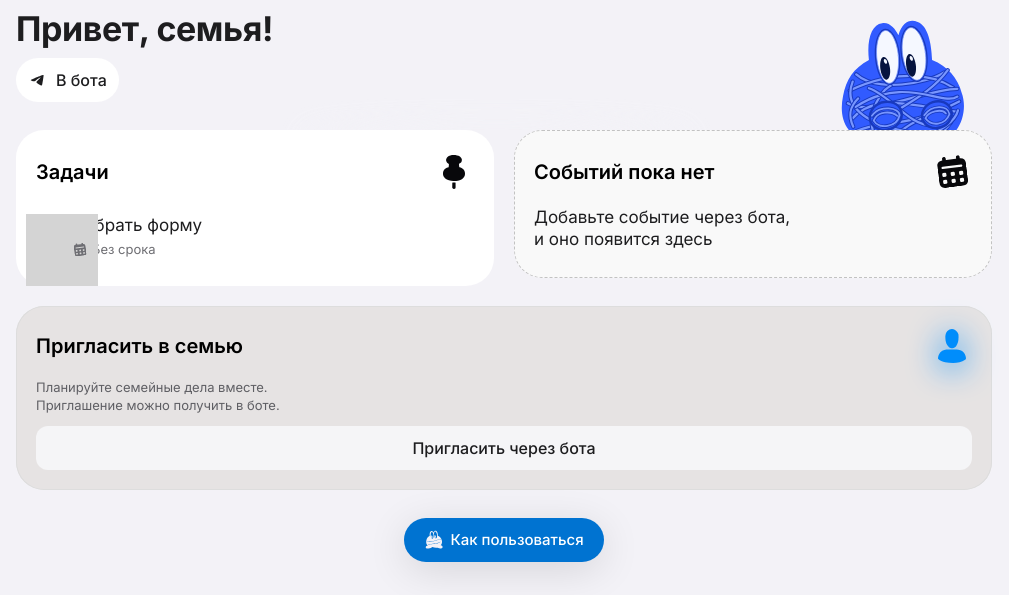
home data states › blocks duplicate bot handoffs and restores the buttons on return without a false missing-link error
Click the button "В бота": (67, 80) [16,58,119,102]
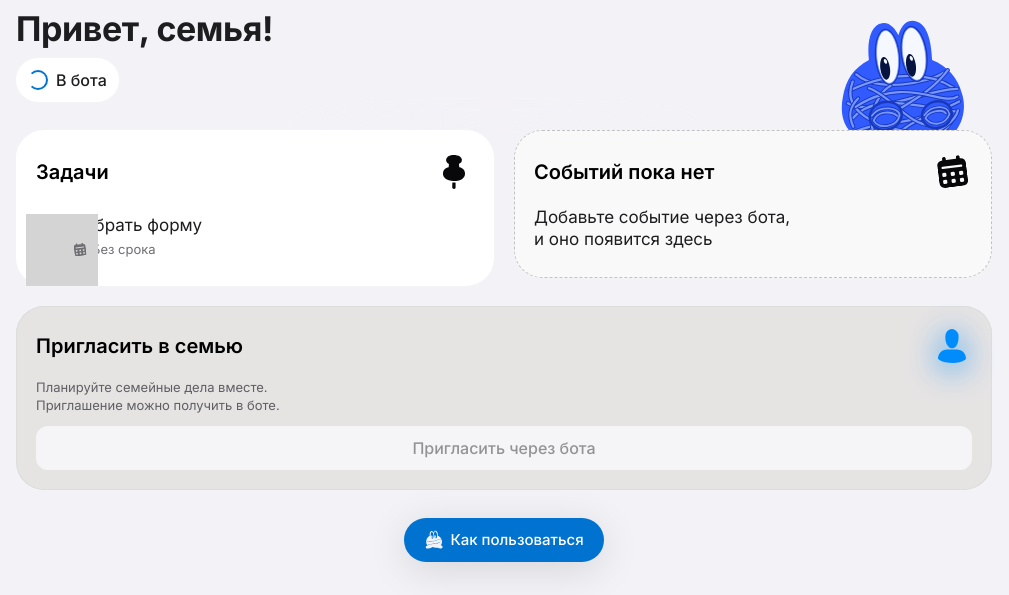
Check: the button "В бота" is disabled
Check: the button "Пригласить через бота" is disabled, box [36,426,972,470]
Click the button "В бота": (67, 80) [16,58,119,102]
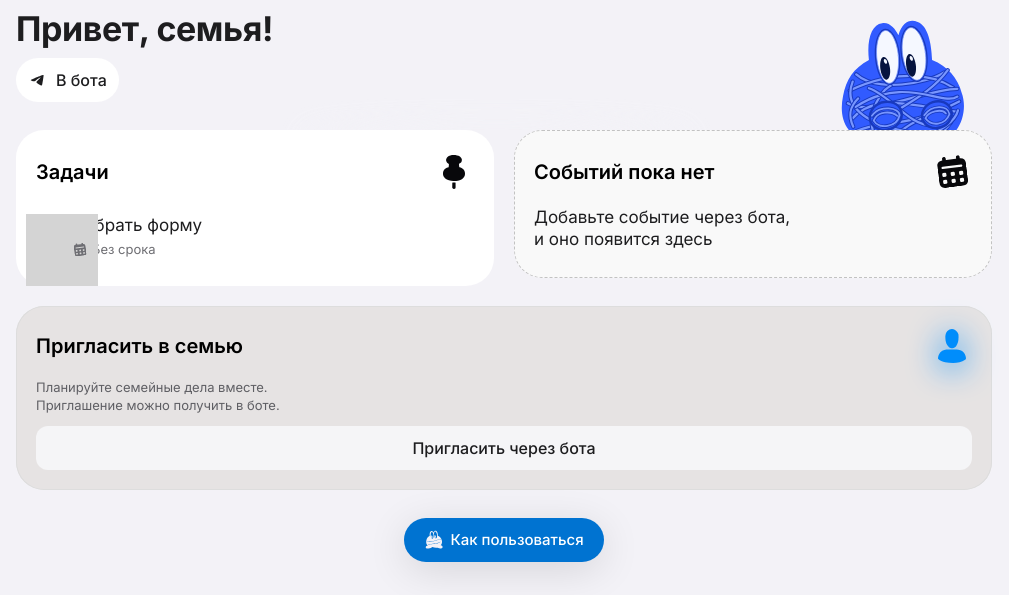
Check: the button "В бота" is enabled, box [16,58,119,102]
